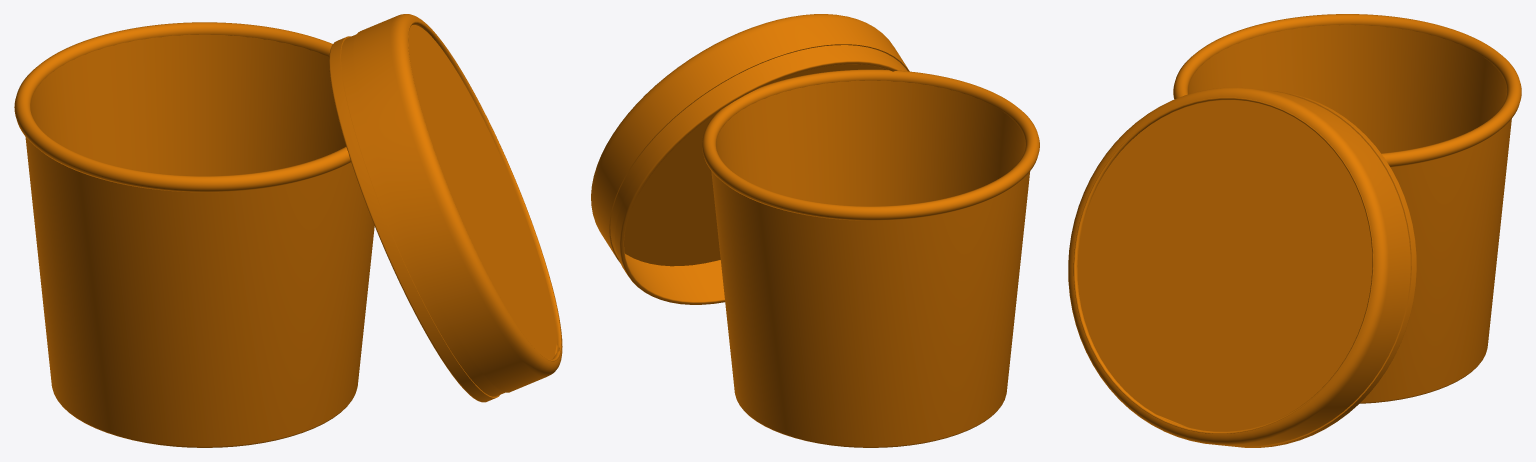
Rendered from CUP_WITH_LED_cardboard.fbx.
3 renders of one model, left to right at view 1: azimuth 30°, elevation 25°; view 2: azimuth 150°, elevation 25°; view 3: azimuth 270°, elevation 25°, orthographic. The views are drawn at different scales.
Visible parts, largest first — view 1: Cone001, Cylinder007, Object220, Torus001; view 2: Cone001, Cylinder007, Object220, Torus001; view 3: Cylinder007, Object220, Cone001, Torus001.
Boxes of the visible parts, x1,y1,x2,y2 form: Cone001: [25, 137, 374, 447]; Cylinder007: [329, 14, 562, 402]; Object220: [30, 34, 346, 176]; Torus001: [14, 22, 350, 192]; Cone001: [711, 171, 1029, 447]; Cylinder007: [591, 14, 909, 304]; Object220: [716, 80, 1025, 206]; Torus001: [702, 69, 1039, 220]; Cylinder007: [1068, 87, 1416, 447]; Object220: [1188, 24, 1506, 153]; Cone001: [1359, 119, 1511, 403]; Torus001: [1173, 14, 1521, 167].
Bounding box in the file's own units: 558 × 389 × 501.
